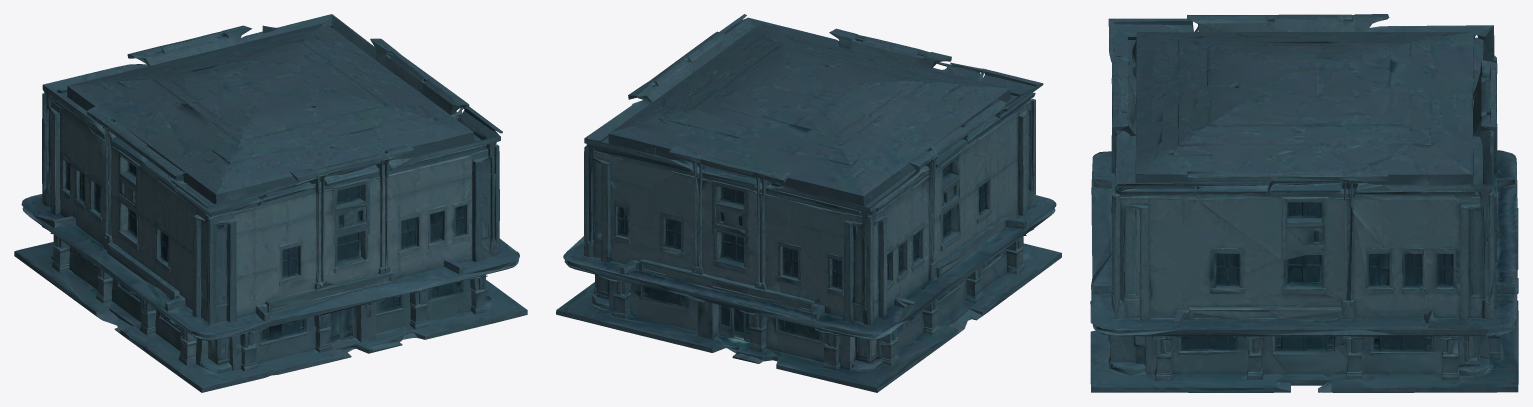
Rendered from mx_bld_police_station.glb.
3 renders of one model, left to right at view 1: azimuth 30°, elevation 25°; view 2: azimuth 150°, elevation 25°; view 3: azimuth 270°, elevation 25°, orthographic. The views are drawn at different scales.
Bounding box in the file's own units: 1.89 × 1.11 × 1.9.
1 material, 1 textured.
